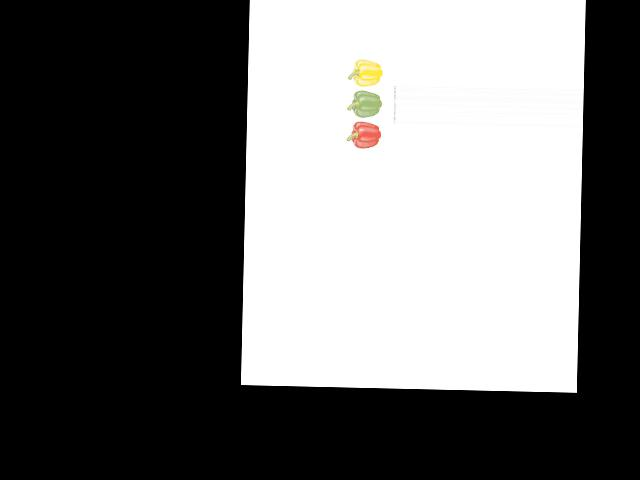bell_pepper: (348, 57, 385, 88)
